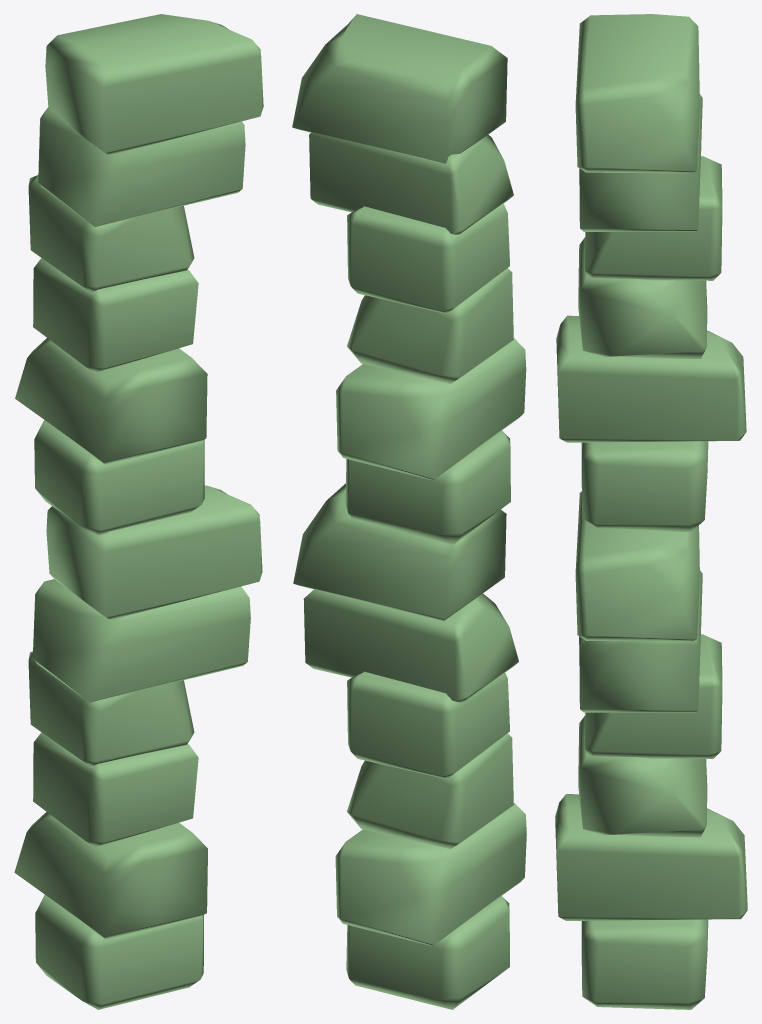
The model's file is Slab_Wall_01_x1_Lod0.fbx.
3 renders of one model, left to right at view 1: azimuth 30°, elevation 25°; view 2: azimuth 150°, elevation 25°; view 3: azimuth 270°, elevation 25°, orthographic. The views are drawn at different scales.
Visible parts, largest first — view 1: Slab_Wall_01_x1_Lod0; view 2: Slab_Wall_01_x1_Lod0; view 3: Slab_Wall_01_x1_Lod0.
Part boxes in pixels (left/top/right/bottom): Slab_Wall_01_x1_Lod0: left=14, top=14, right=263, bottom=1009; Slab_Wall_01_x1_Lod0: left=292, top=14, right=526, bottom=1009; Slab_Wall_01_x1_Lod0: left=555, top=14, right=747, bottom=1009.
Size of the model in its own units: 59.68 by 298 by 54.77.
